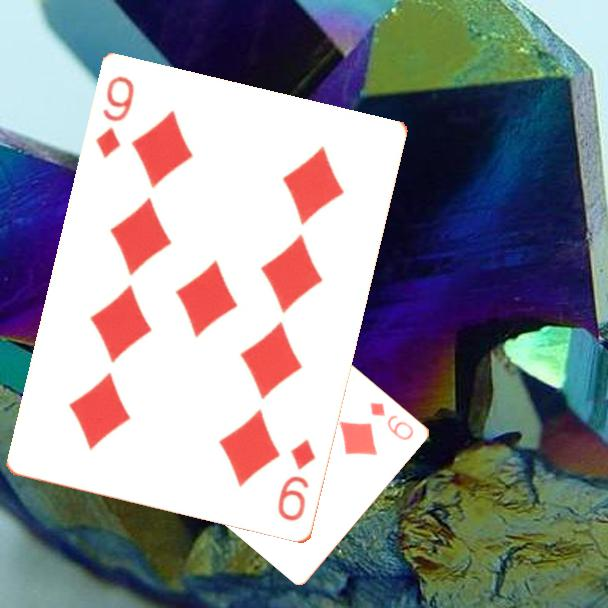d09: (93, 73, 138, 162), (274, 437, 319, 525), (367, 399, 417, 443)
